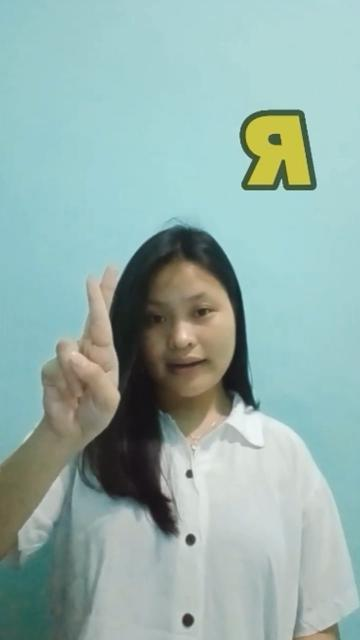R: (35, 260, 123, 450)
